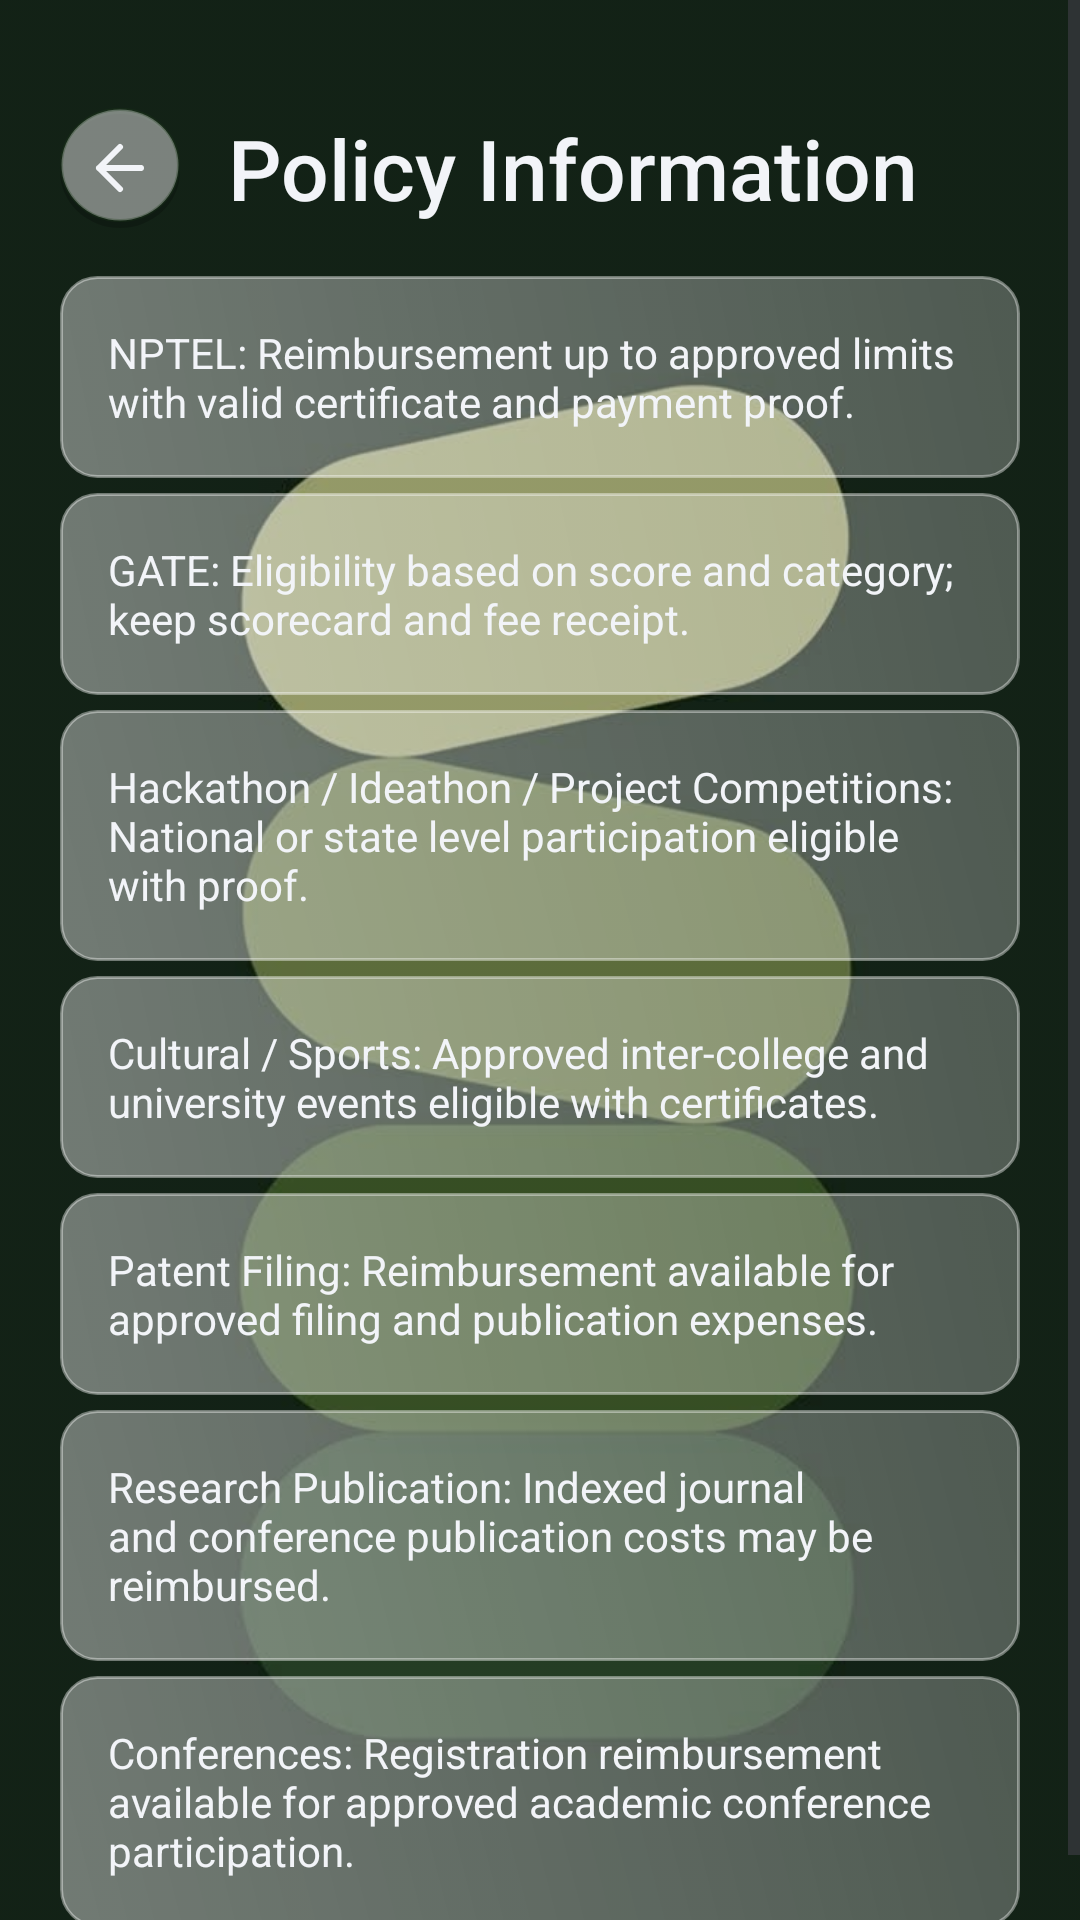

Icon click points for this 1080px x 1920px phone screenshot, format point (x, y):
Back: point (120, 165)
